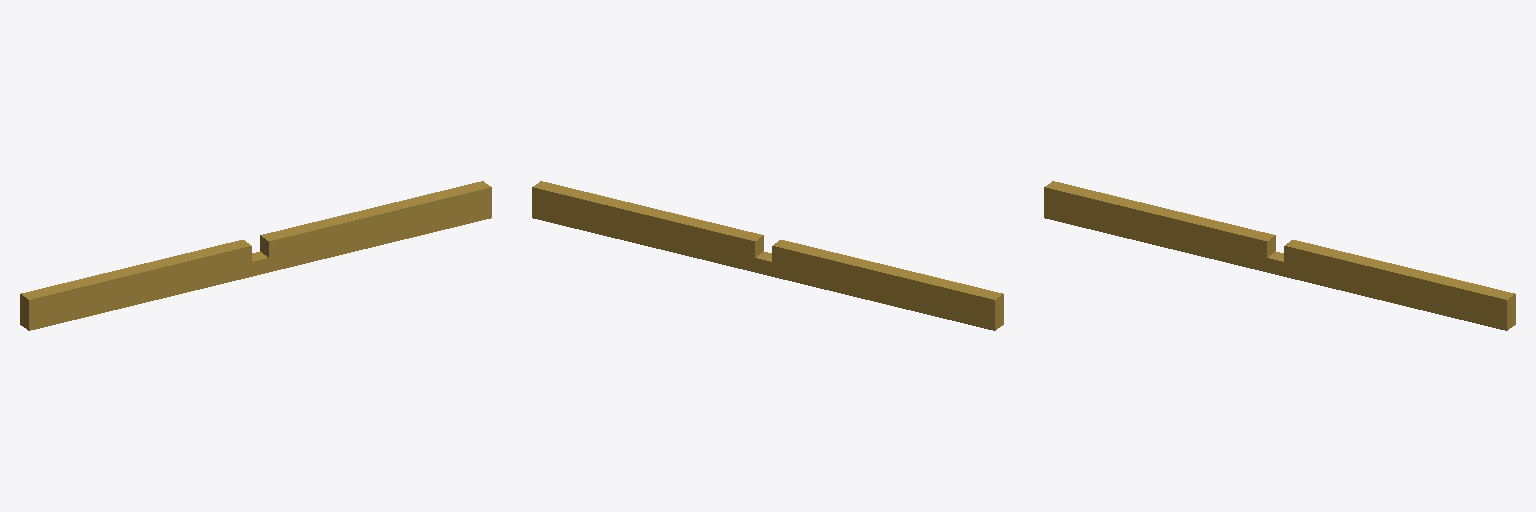
robot.urdf — beam_2C_90deg_3mm:
<?xml version="1.0" ?>
<robot name="beam_2C_90deg_3mm">


    <!-- Import Rviz colors -->
    <material name="beam_color">
        <color rgba="0.72 0.60 0.30 1.0"/>
    </material>

    <!-- Joint from Base to FT-Sensor Below -->
    <joint name="joint_base" type="fixed">
        <parent link="base"/>
        <child link="beam_2C_90deg_3mm"/>
        <origin rpy="0 0 0 " xyz="0.0 0.0 0.0"/>
        <dynamics damping="0.5"/>
    </joint>

    <!-- Virtual Base Link -->
    <link name="base">
      <inertial>
          <origin rpy="0 0 0" xyz="0 0 0"/>
          <mass value="0.001"/>
          <inertia ixx="0.001" ixy="0" ixz="0" iyy="0.001" iyz="0" izz="0.001"/>
      </inertial>
    </link>

    <!-- Beam Link -->
    <link name="beam_2C_90deg_3mm">
        <inertial>
            <origin rpy="0 0 0" xyz="-7.039904321215437e-17 2.2221920205856806e-20 -0.00028483352761386483"/>
            <mass value="1.9549599948003116"/>
            <inertia ixx="2.6080195612833765e-06" ixy="3.914636633752519e-39" ixz="-9.306456843444792e-22" iyy="0.0005179224270478861" iyz="-6.979084825602558e-24" izz="0.000516357052770553"/>
        </inertial>
        <visual>
            <geometry>
                <mesh filename="beam_2C_90deg_3mm/meshes/visual/beam_2C_90deg_3mm.stl"/>
            </geometry>
            <material name="beam_color"/>
        </visual>
        <collision>
            <geometry>
                <mesh filename="beam_2C_90deg_3mm/meshes/collision/beam_2C_90deg_3mm_0.stl"/>
            </geometry>
        </collision>
        <collision>
            <geometry>
                <mesh filename="beam_2C_90deg_3mm/meshes/collision/beam_2C_90deg_3mm_1.stl"/>
            </geometry>
        </collision>
        <collision>
            <geometry>
                <mesh filename="beam_2C_90deg_3mm/meshes/collision/beam_2C_90deg_3mm_2.stl"/>
            </geometry>
        </collision>
    </link>
</robot>

--- Facts derived from the render (not from the file) ---
Views: 3 orthographic renders of the robot side by side, from view 1: azimuth 30°, elevation 25°; view 2: azimuth 150°, elevation 25°; view 3: azimuth 330°, elevation 25°.
Robot: beam_2C_90deg_3mm — 2 links, 1 joints (1 fixed); root link base; default pose: every joint at zero.
Visible links, largest first — view 1: beam_2C_90deg_3mm; view 2: beam_2C_90deg_3mm; view 3: beam_2C_90deg_3mm.
Link boxes in pixels (<box>): beam_2C_90deg_3mm: <box>20,181,491,330</box>; beam_2C_90deg_3mm: <box>532,181,1003,330</box>; beam_2C_90deg_3mm: <box>1044,181,1515,330</box>.
Bounding box of the posed robot: 1.25 × 0.04 × 0.08 m (x, y, z).
1 mesh visuals loaded from 1 distinct referenced files (1 binary STL).
